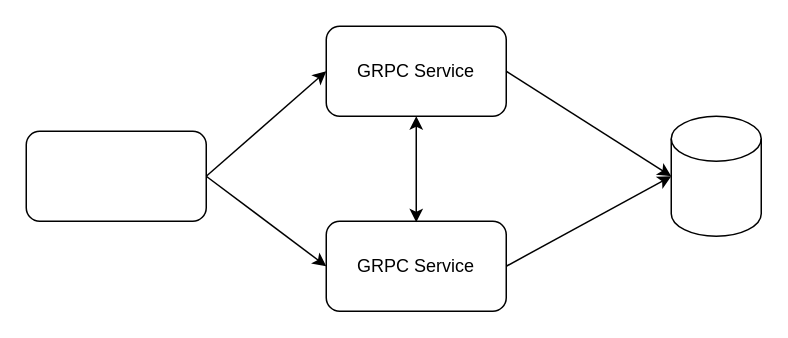
This 788x338 diagram has some shape labels left out. Each missing label, with the box of its shape:
Gateway: (25, 130, 206, 221)
Postgresql: (670, 115, 761, 236)
